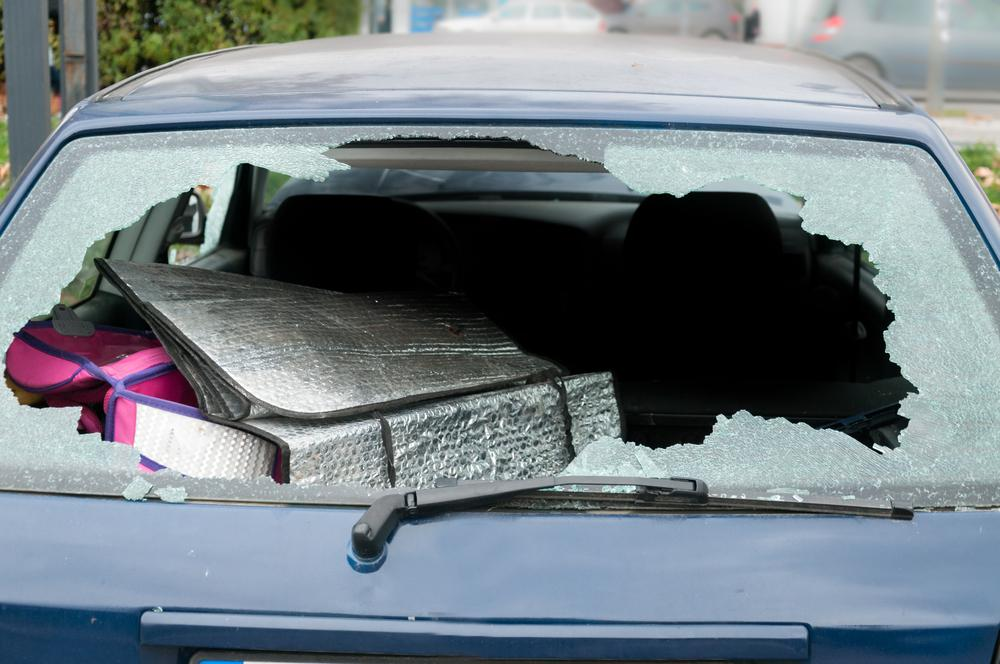glass shatter: (0, 123, 1000, 510)
